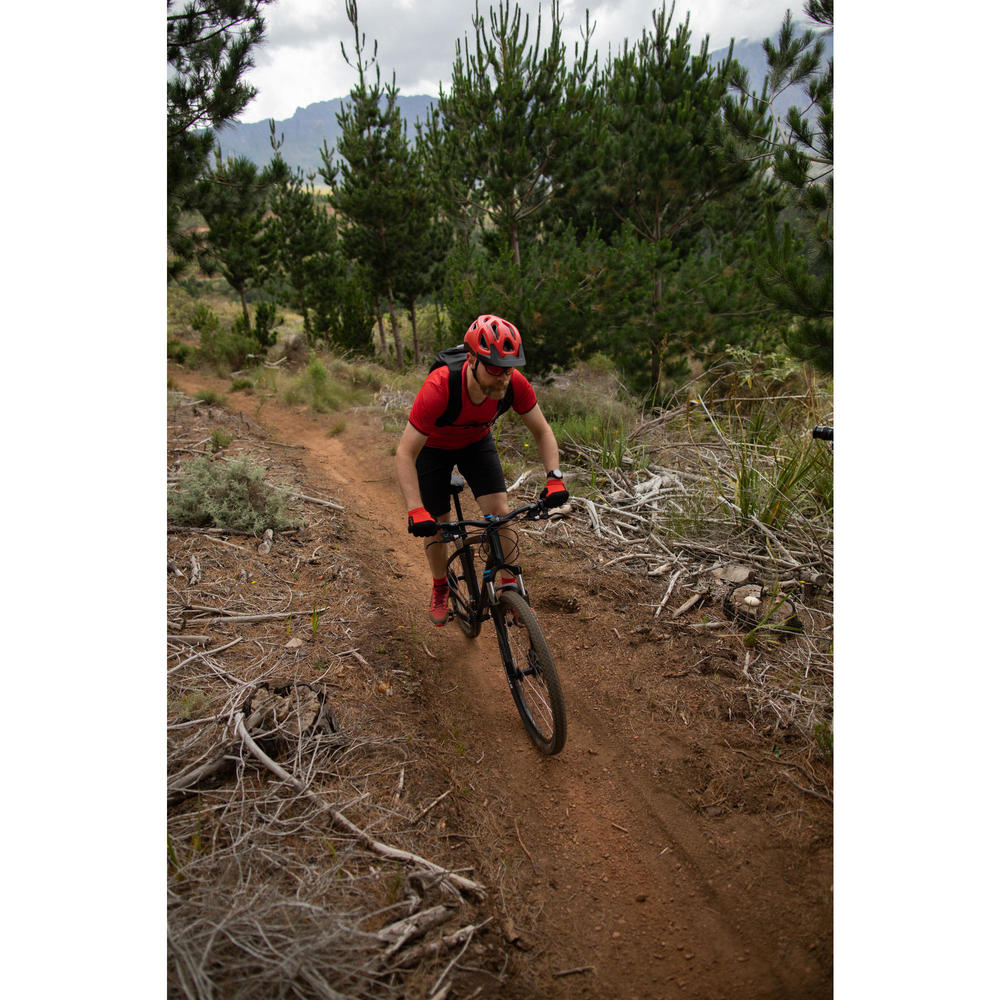MountainBike: (413, 473, 571, 770)
